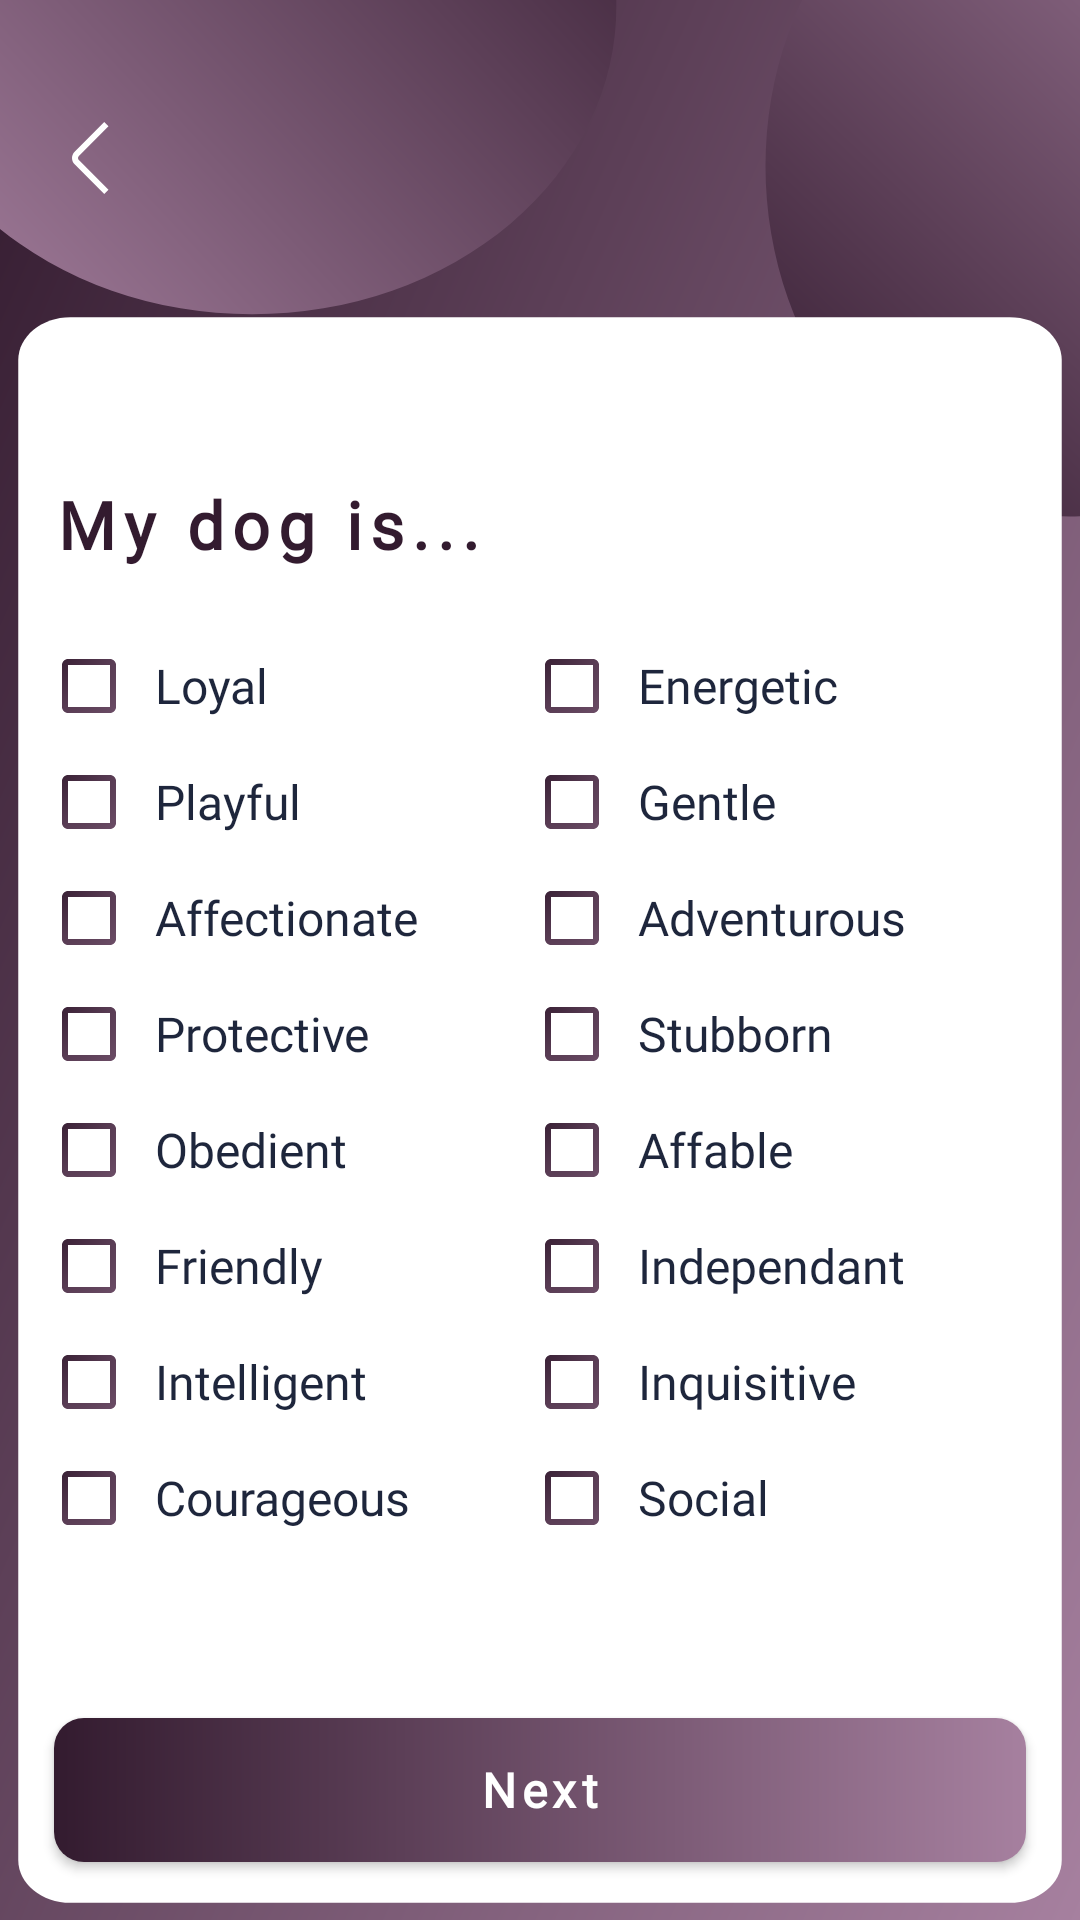

Where icons sit on this 1080 × 1920 app screen, as region(x1, y1, x2, y2):
back arrow: region(72, 122, 109, 194)
